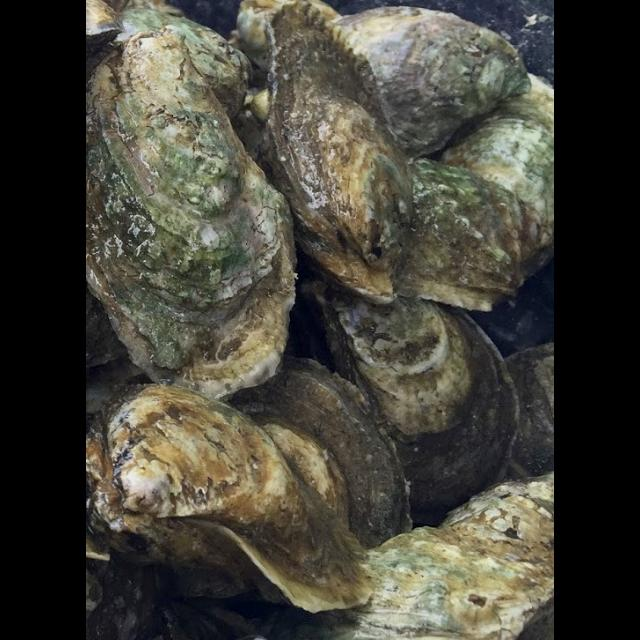Oyster-Closed: (86, 31, 296, 402), (86, 384, 377, 610), (300, 261, 521, 526), (267, 471, 555, 640), (254, 0, 414, 304), (217, 355, 413, 548), (336, 7, 532, 159), (397, 162, 555, 310), (439, 74, 555, 232), (105, 6, 250, 123), (234, 0, 342, 75), (507, 344, 555, 482), (86, 0, 123, 55)
